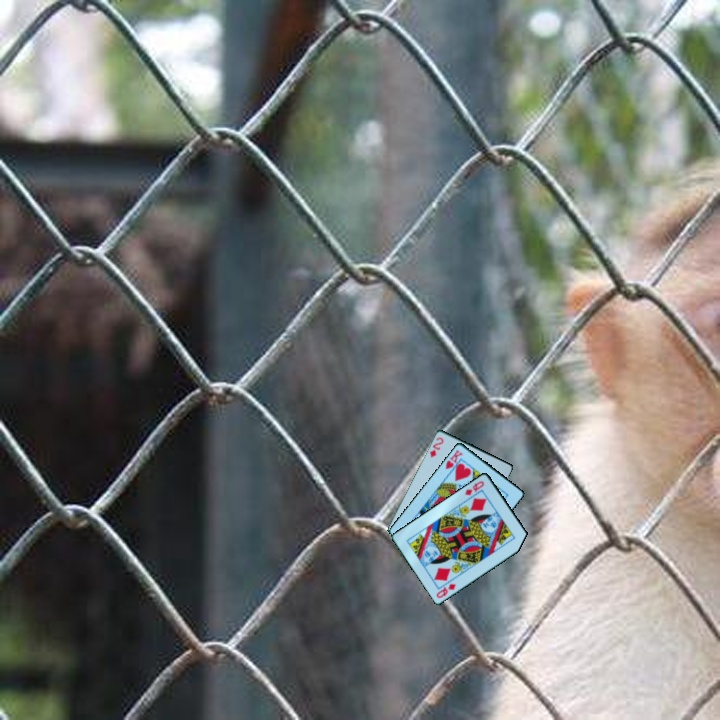2d: (426, 433, 446, 460)
Kh: (442, 446, 466, 472)
Qd: (461, 477, 487, 498), (433, 580, 459, 601)
